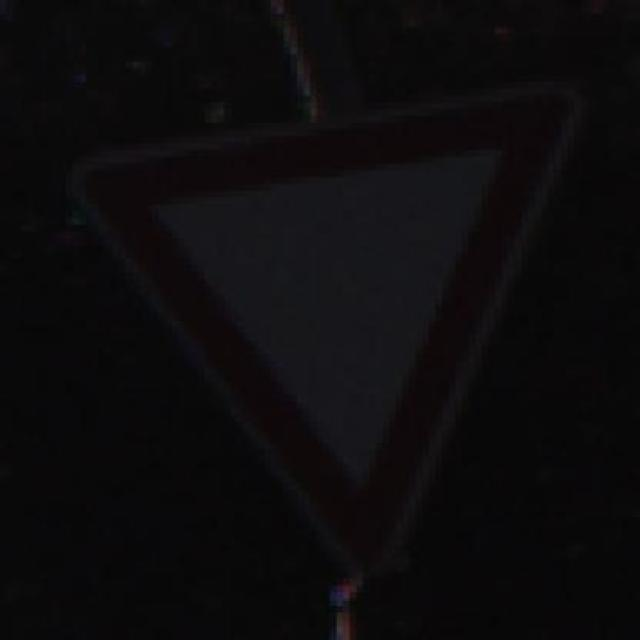Give Way: (52, 75, 620, 579)
